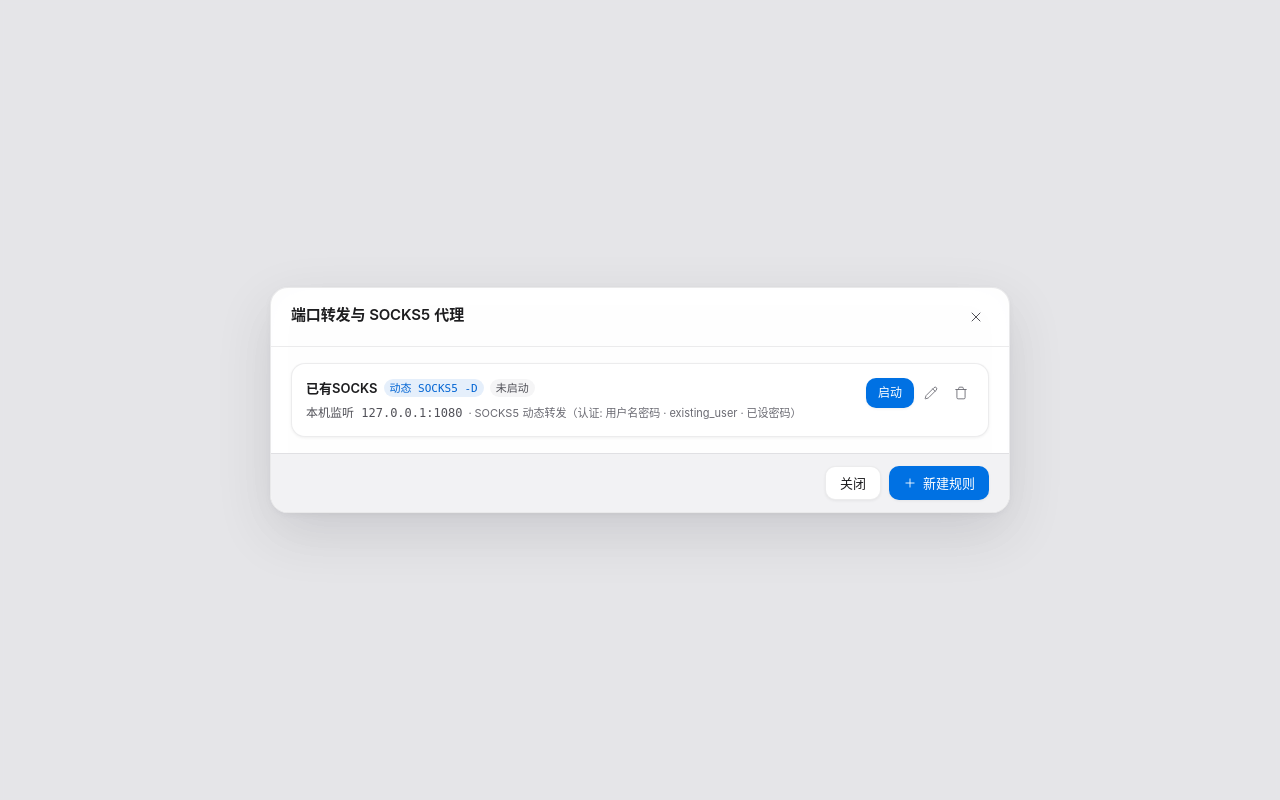
Scenario: PortForwardModal dynamic socks authentication (BUG-011, BUG-012) › checking clear password sends socks_clear_password: true
Click the button named "编辑规则" at (931, 393), box [918,380,944,406]
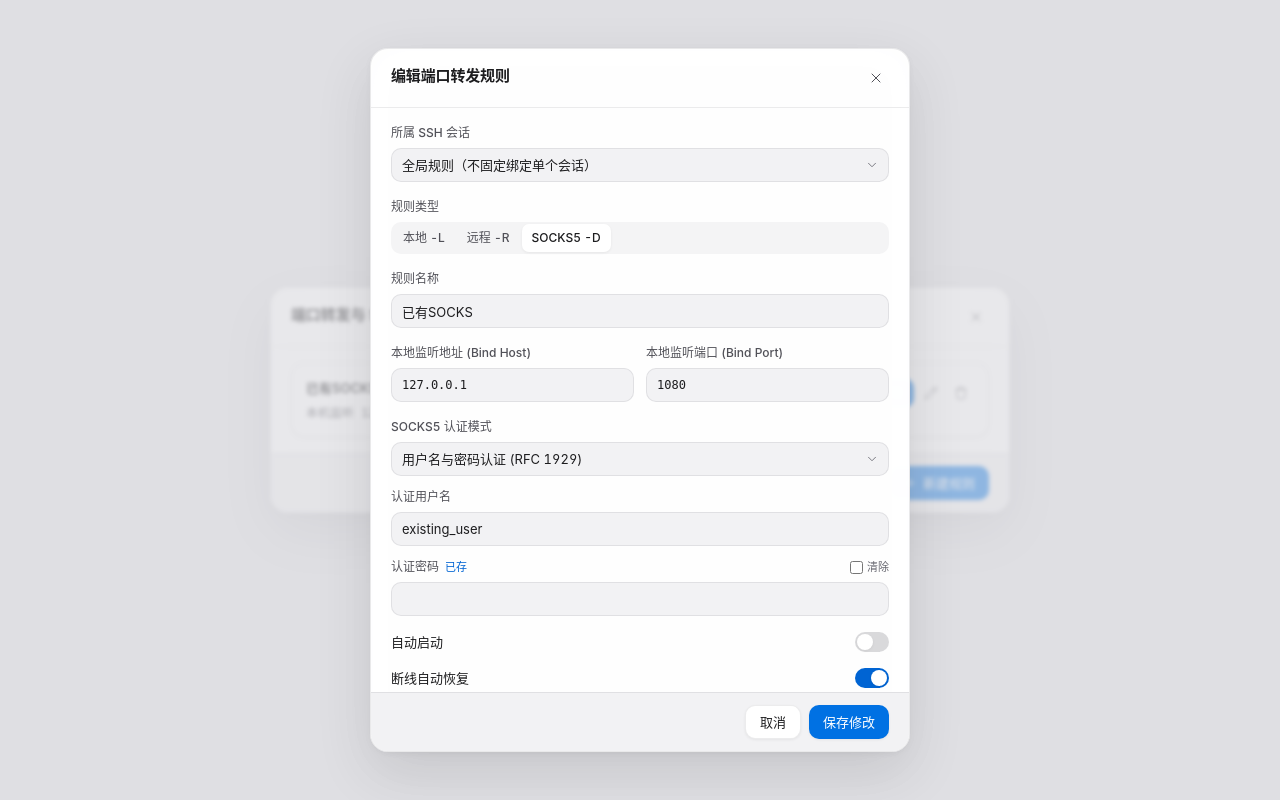
Click the checkbox labelled "清除" at (856, 567), box [850,560,863,574]
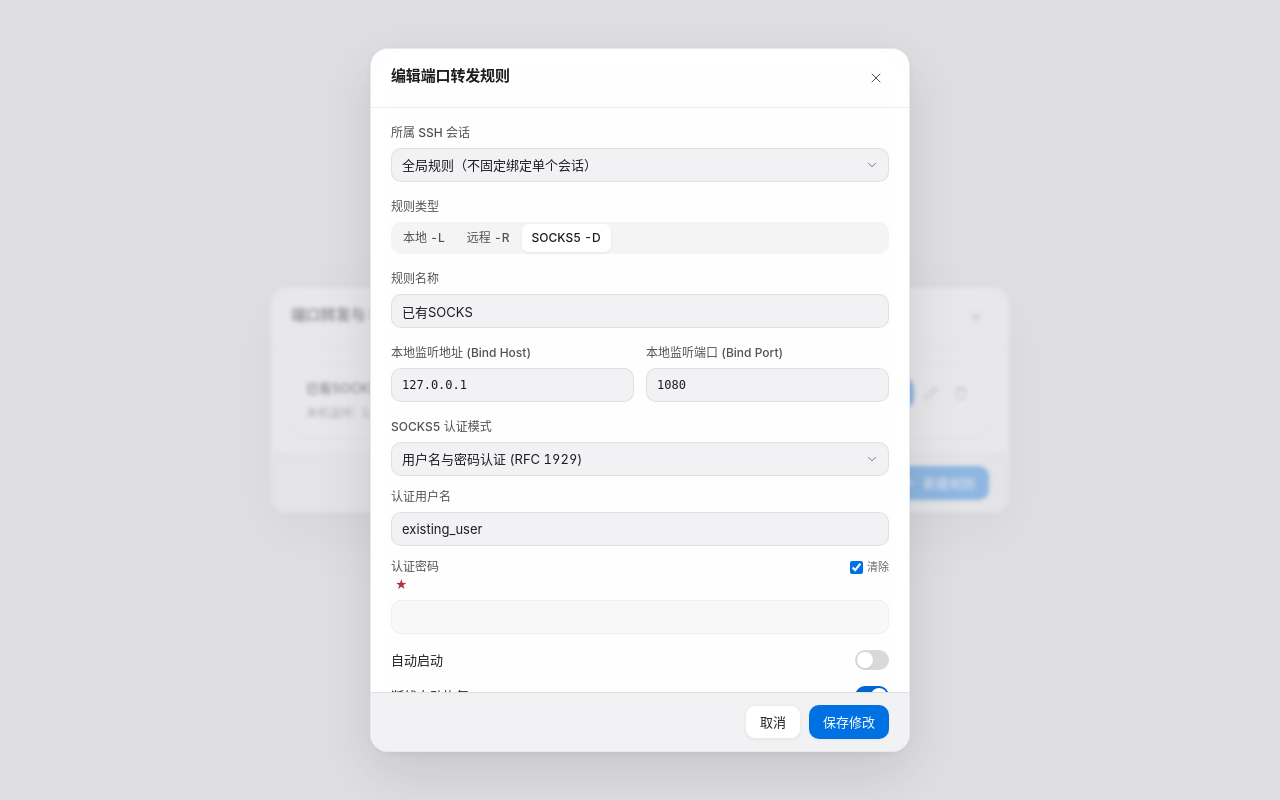
Click the button "保存修改" at (849, 722), box [809,705,889,739]
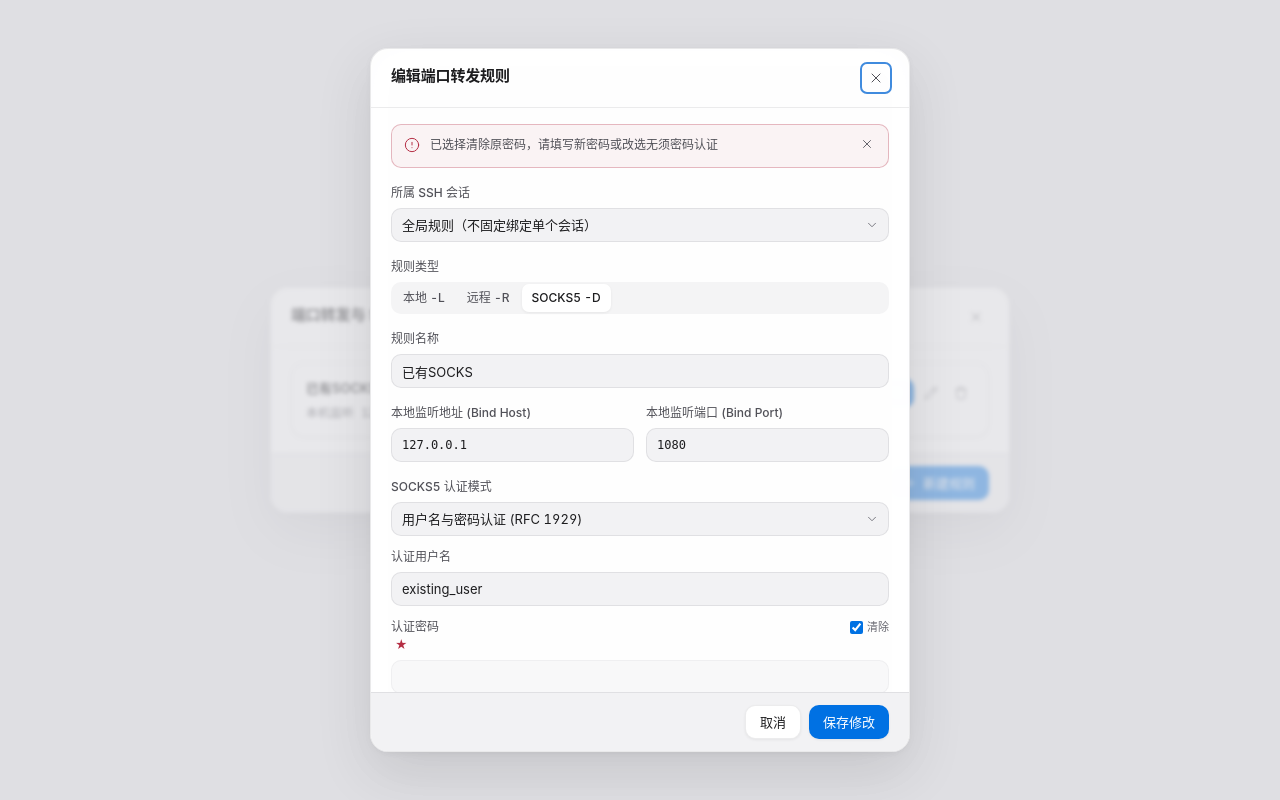
Expected: the text "已选择清除原密码" is shown, [430,137,718,152]
